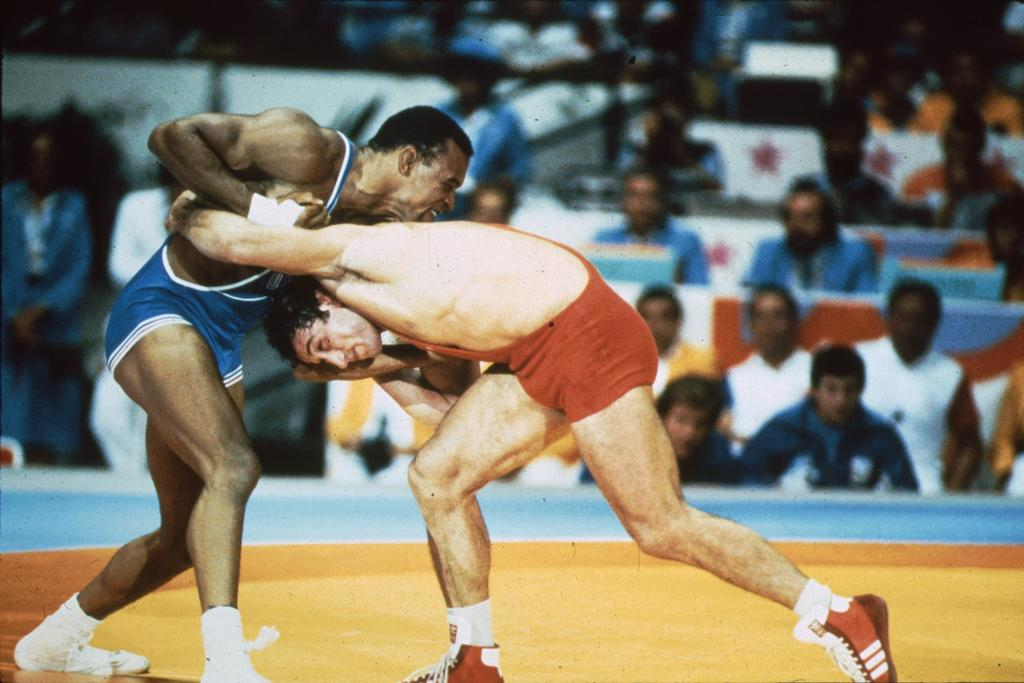face: (391, 140, 470, 224)
